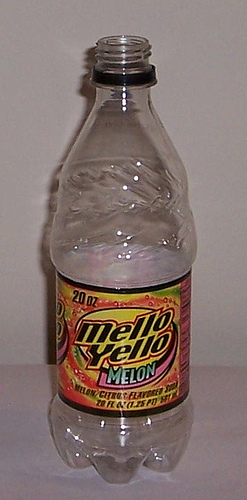emptybottle: (48, 37, 193, 483)
